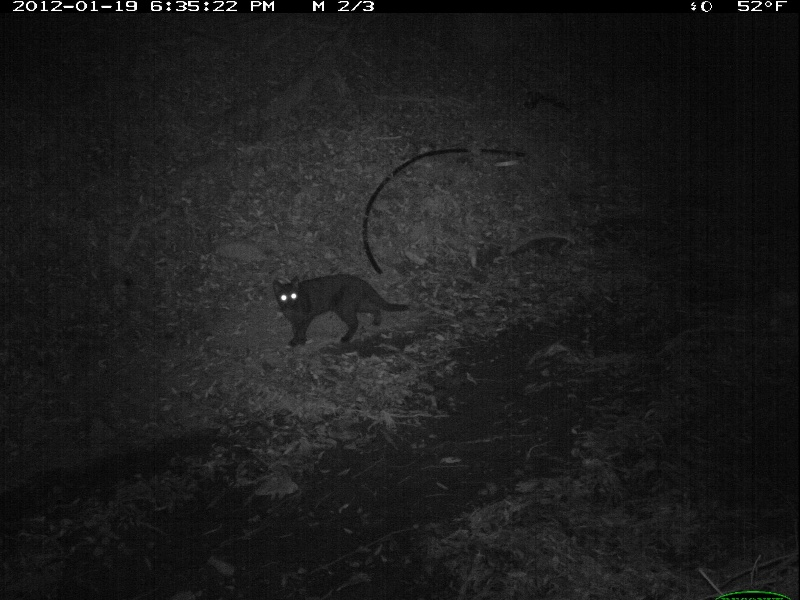cat: (269, 274, 412, 350)
